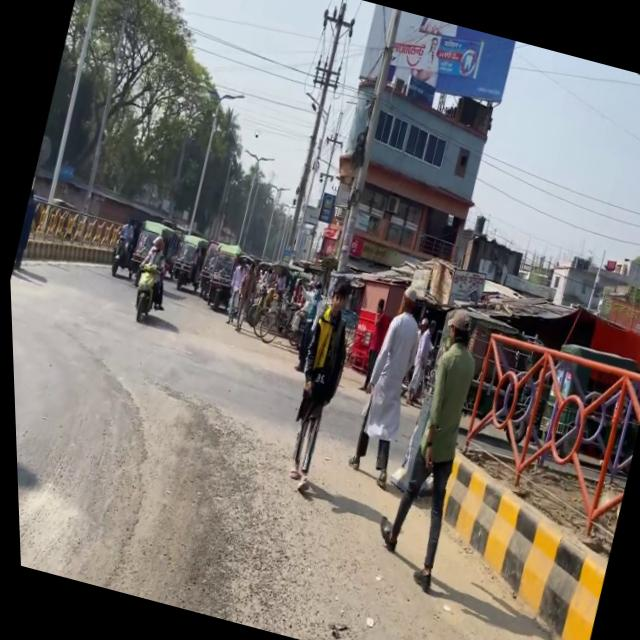Construction-barrier: (10, 221, 116, 291)
Fallen-tree: (121, 258, 172, 328), (104, 232, 145, 282)
Garbage-bin: (355, 300, 496, 590), (265, 275, 366, 495), (334, 281, 435, 488), (8, 188, 41, 271)
